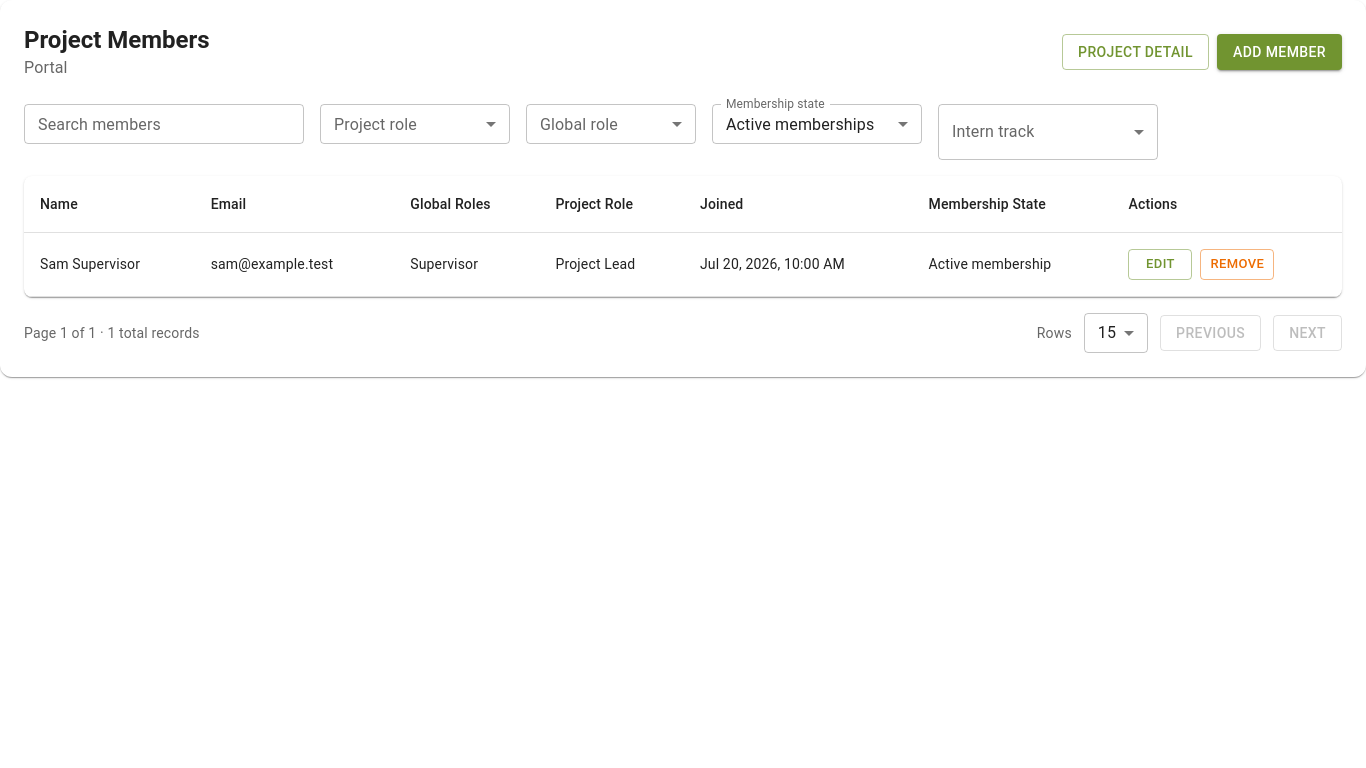
Test case: Project pages › edits and removes project memberships while preserving final-lead conflicts
Expected: the text "Project Lead" is shown, [556,256,635,272]
Click the button "Edit" at (1160, 264), box [1128,249,1192,280]
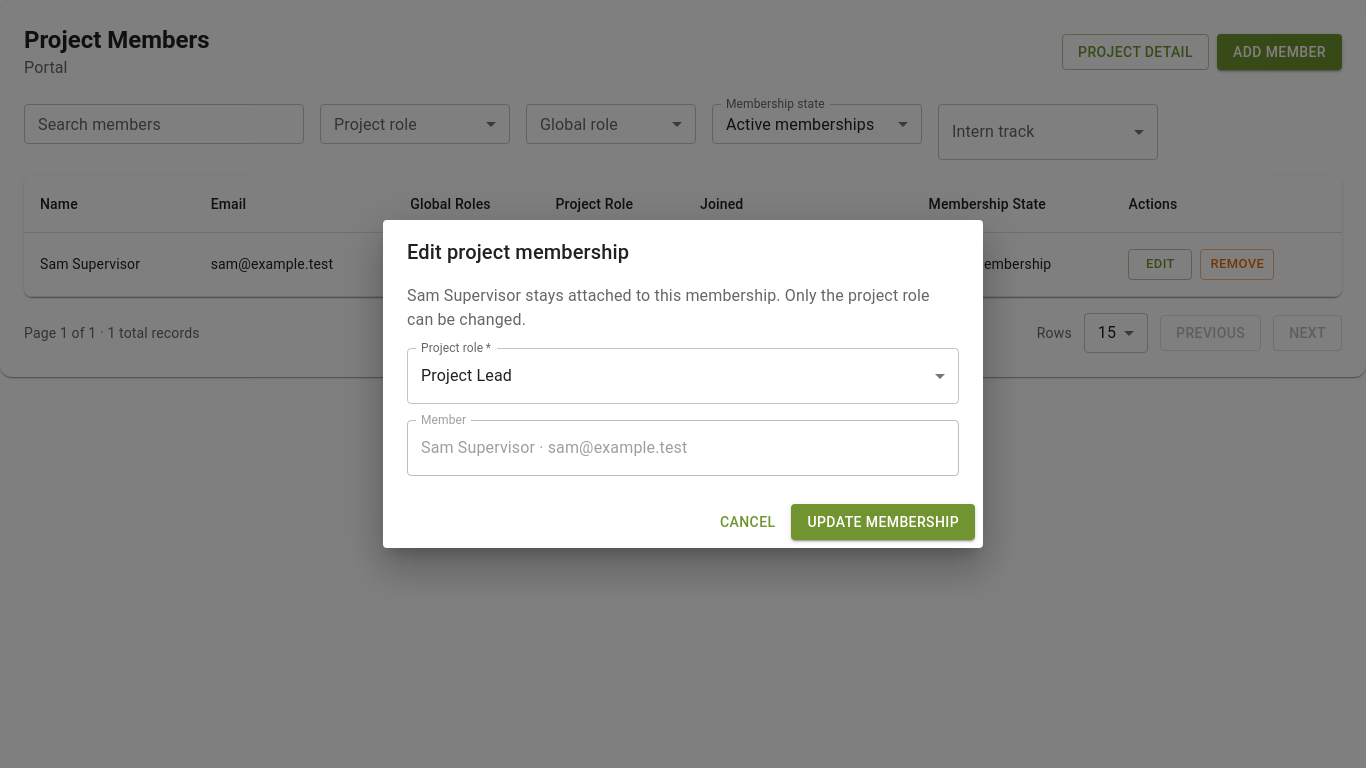
Click the dropdown named "project role" at (466, 376), box [421,366,512,385]
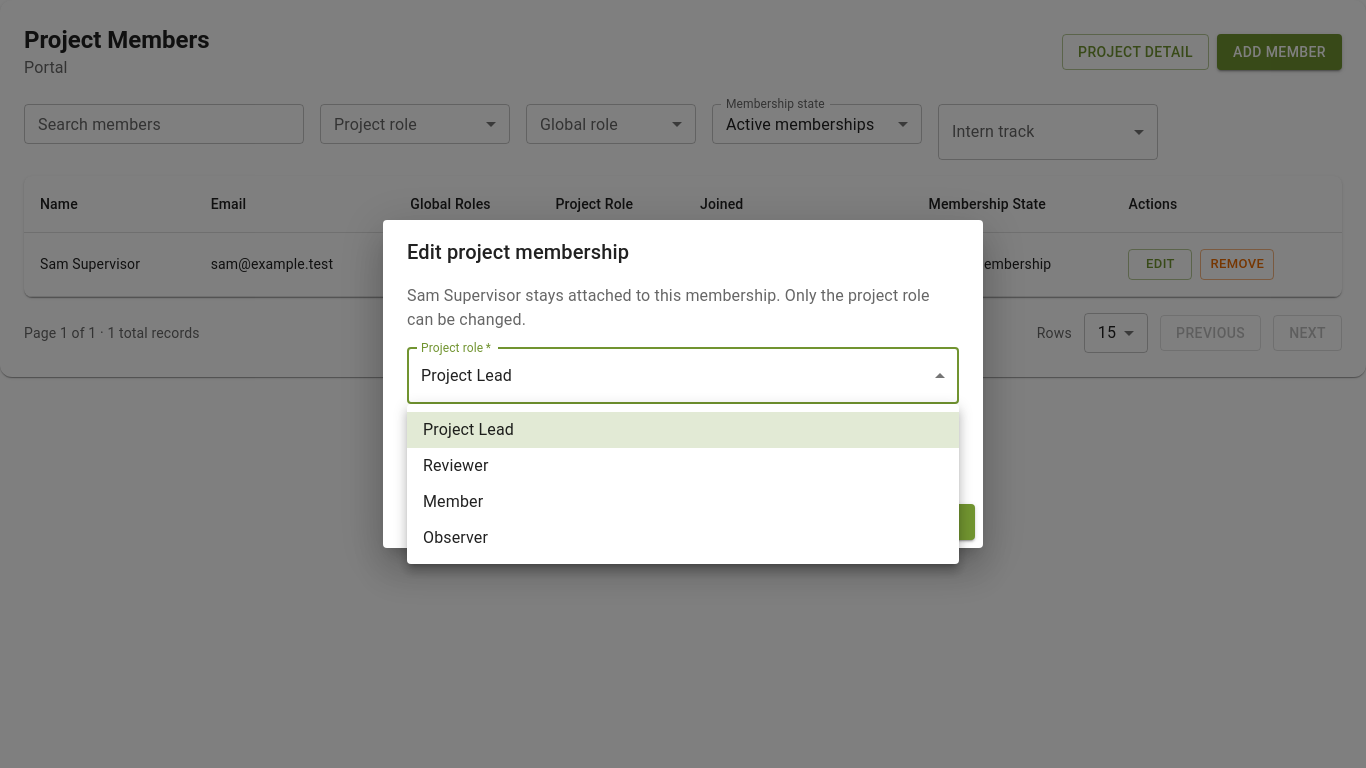
Click the option "Reviewer" at (456, 466), box [423,456,488,475]
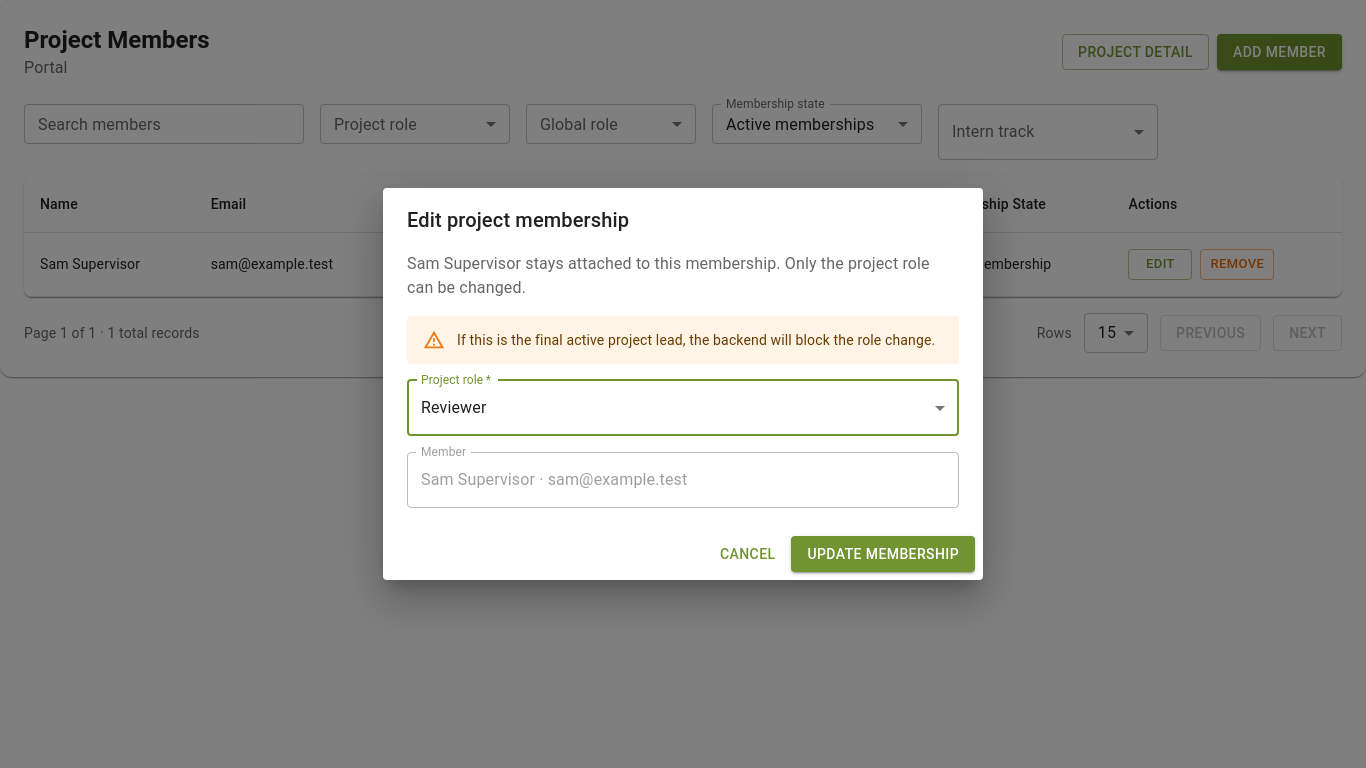
Expected: the text "final active project lead" is shown, [457,332,935,348]
Click the button "Update Membership" at (883, 554), box [792,536,975,572]
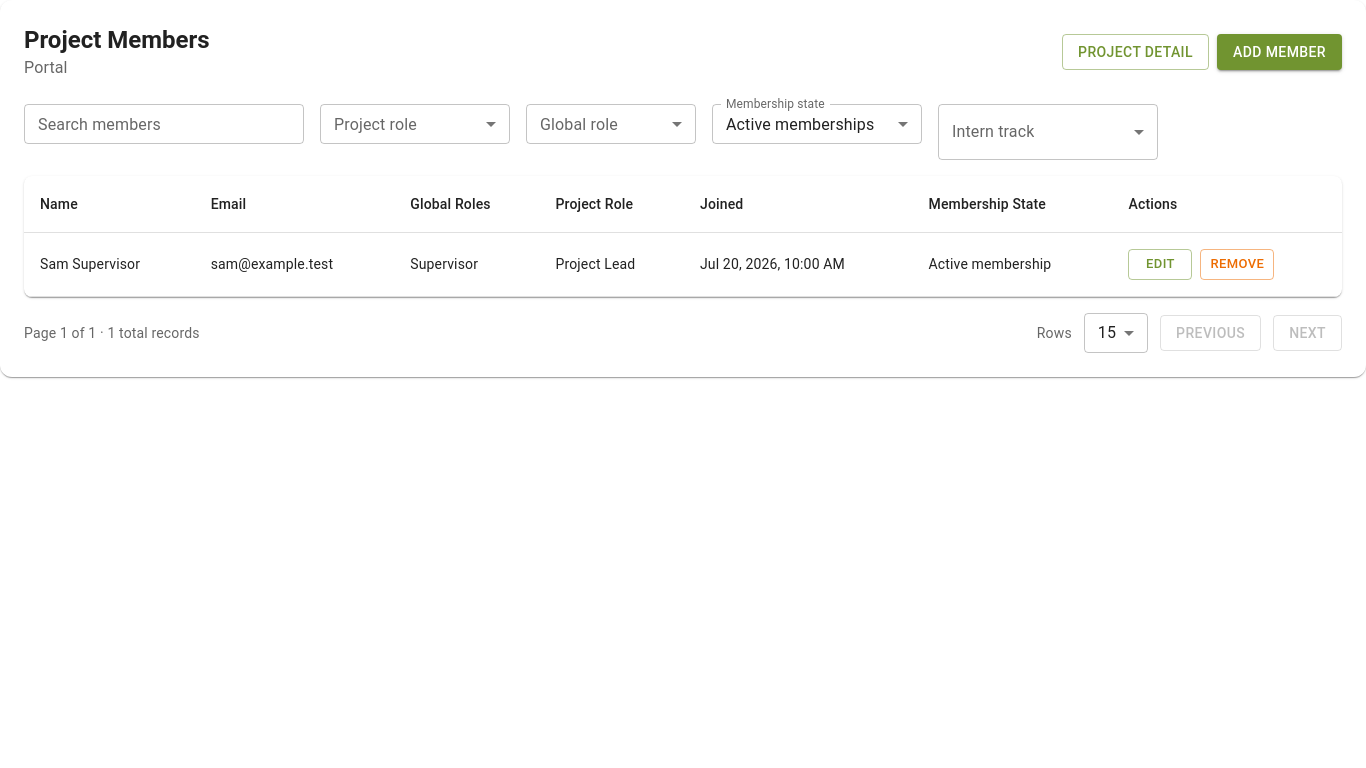
Expected: the heading "Edit project membership" is gone
Click the button "Remove" at (1237, 264), box [1200,249,1274,280]
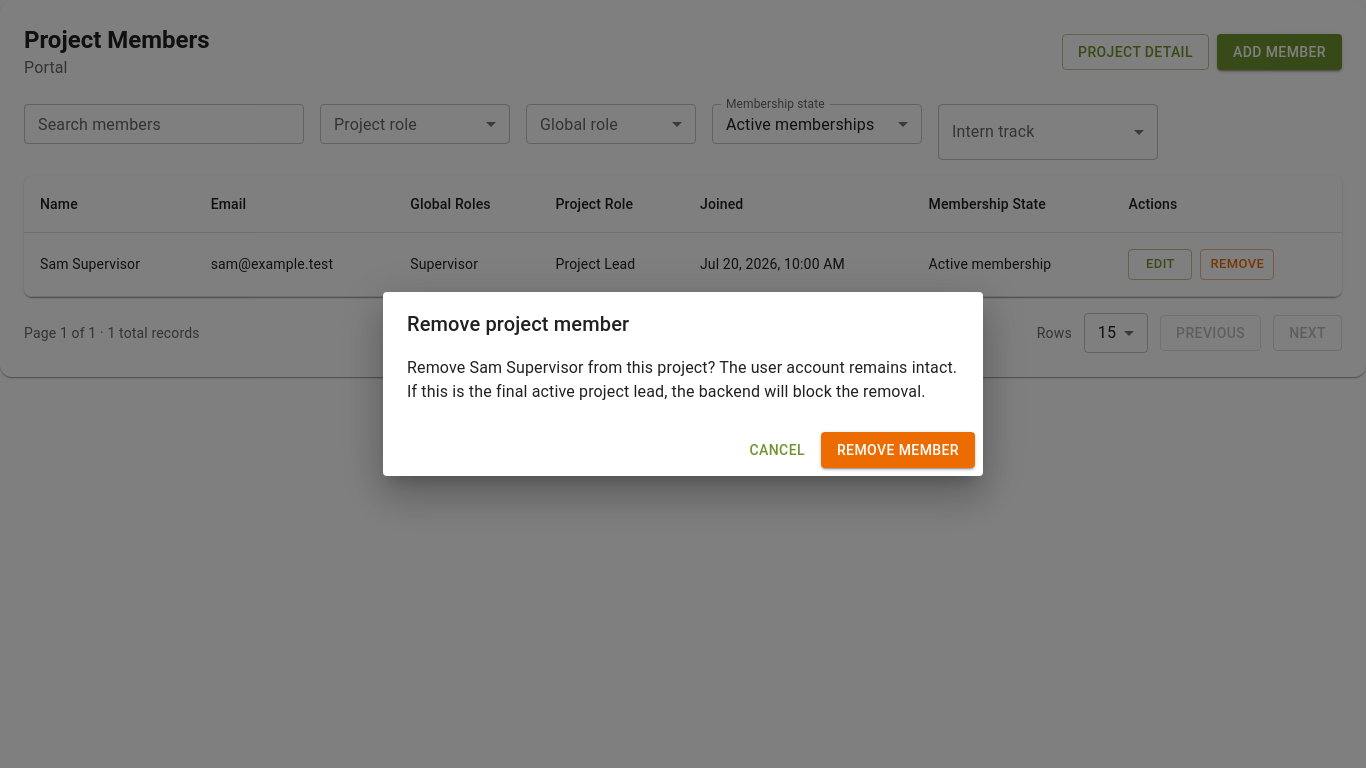
Expected: the text "user account remains intact" is shown, [407,358,957,401]
Click the button "Remove Member" at (898, 450), box [821,432,975,468]
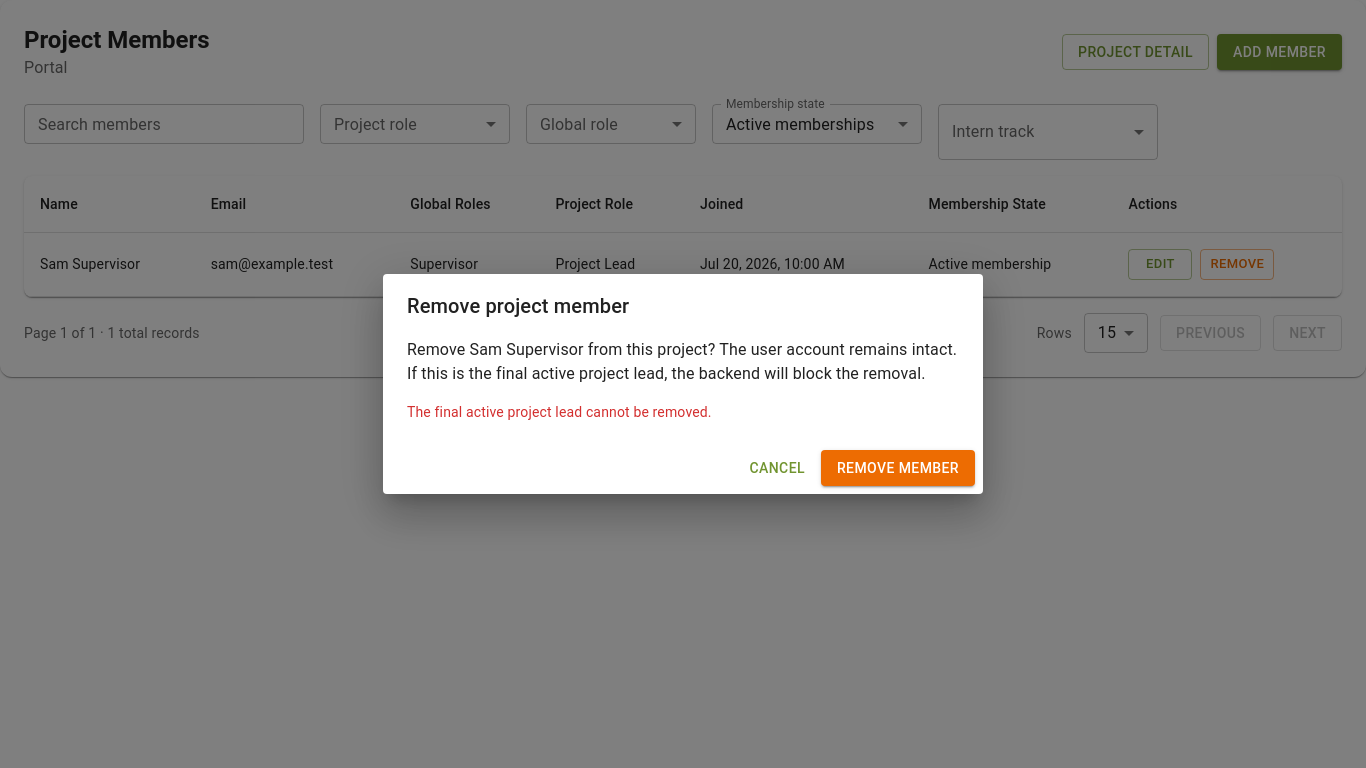
Expected: the text "The final active project lead cannot be removed." is shown, [407,404,712,420]
